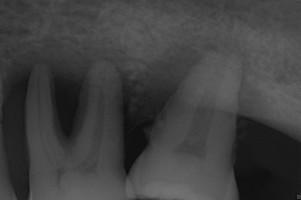Dental Caries: (0, 35, 269, 139)
